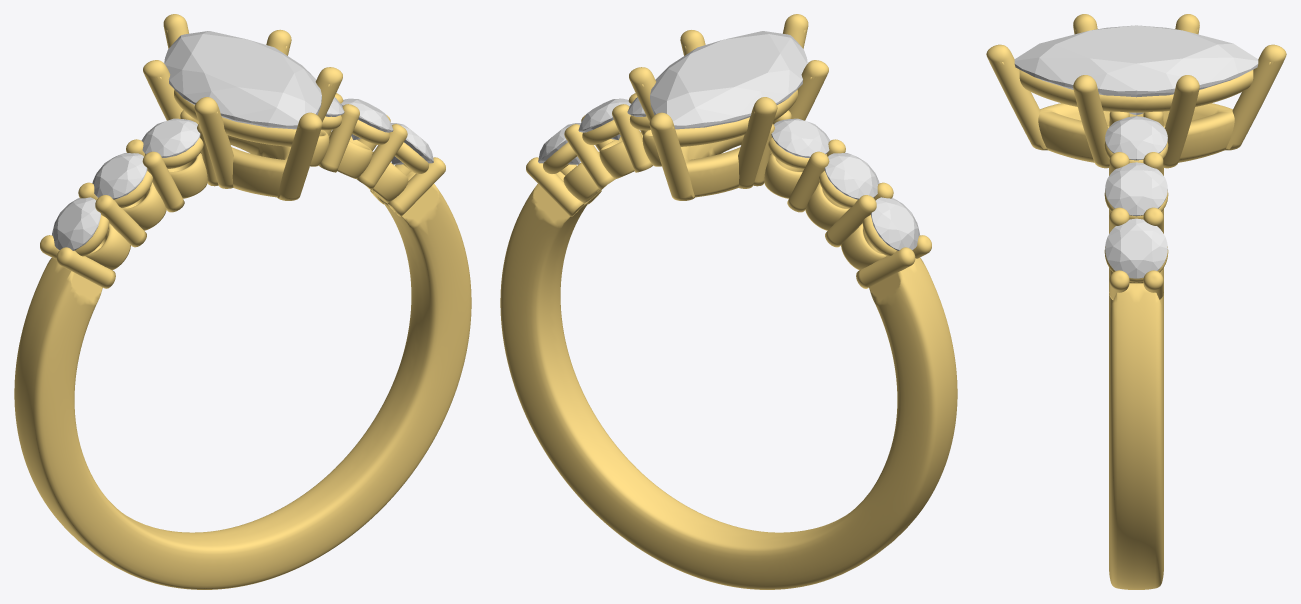
The model's file is diamond-marquise-yellowgold-6prong-straightband-7stone.glb.
3 views of the same model, side by side, from view 1: azimuth 30°, elevation 25°; view 2: azimuth 150°, elevation 25°; view 3: azimuth 270°, elevation 25° (orthographic).
Parts seen in each view (by area): view 1: metal.001, stone.001, side.001, side.008, side.009, side.011, side.010; view 2: metal.001, stone.001, side.001, side.008, side.009, side.011, side.010; view 3: metal.001, stone.001, side.010, side.011, side.012.
Boxes of the visible parts, left/top/right/bottom form: metal.001: left=14, top=14, right=471, bottom=589; stone.001: left=164, top=31, right=321, bottom=129; side.001: left=52, top=197, right=100, bottom=250; side.008: left=92, top=153, right=147, bottom=199; side.009: left=141, top=118, right=200, bottom=157; side.011: left=341, top=98, right=393, bottom=140; side.010: left=391, top=123, right=433, bottom=164; metal.001: left=500, top=14, right=957, bottom=589; stone.001: left=650, top=31, right=807, bottom=129; side.001: left=871, top=197, right=919, bottom=250; side.008: left=824, top=153, right=879, bottom=199; side.009: left=771, top=118, right=830, bottom=157; side.011: left=578, top=98, right=630, bottom=140; side.010: left=538, top=123, right=580, bottom=164; metal.001: left=986, top=14, right=1286, bottom=589; stone.001: left=1014, top=25, right=1258, bottom=115; side.010: left=1105, top=218, right=1167, bottom=278; side.011: left=1105, top=162, right=1167, bottom=216; side.012: left=1105, top=116, right=1167, bottom=160.
Bounding box in the file's own units: 20.5 × 22.93 × 11.96.
